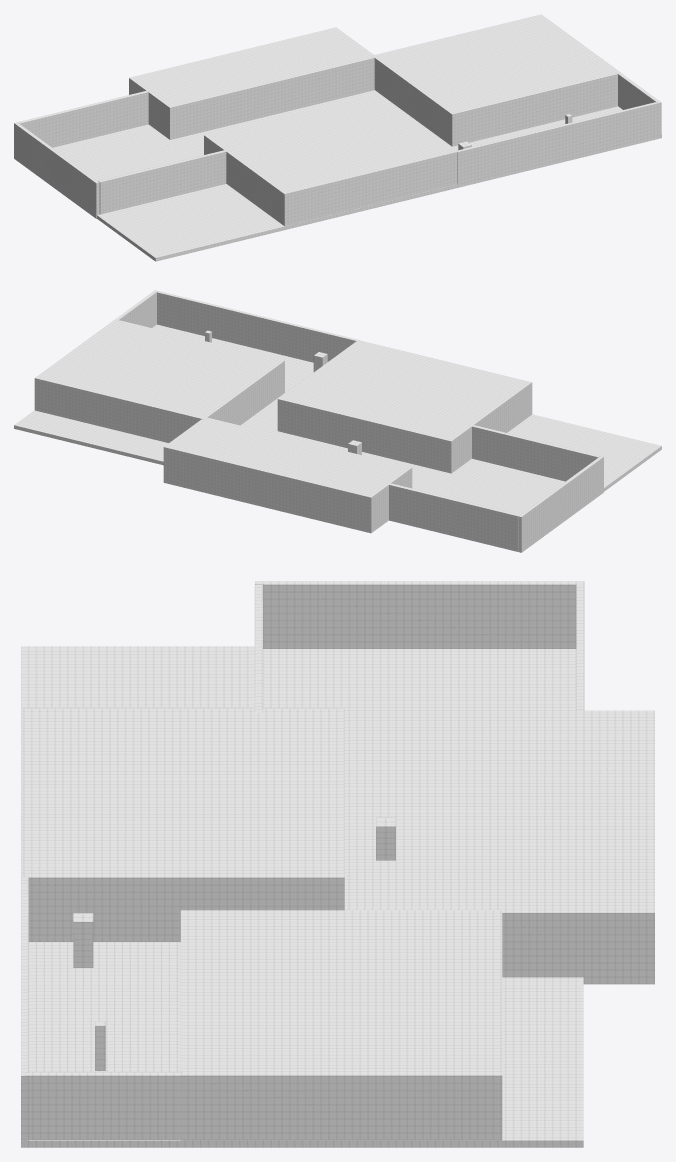
File: StageCol.fbx
The picture shows the model from 3 angles, top to bottom: view 1: azimuth 30°, elevation 25°; view 2: azimuth 150°, elevation 25°; view 3: azimuth 270°, elevation 25°; orthographic projection. The views are drawn at different scales.
Parts seen in each view (by area): view 1: Cube__8_, Cube__5_, Cube__9_, Cube__4_, Cube__3_, Cube__11_, Cube__10_, Cube__12_, Cube__7_; view 2: Cube__8_, Cube__5_, Cube__9_, Cube__4_, Cube__3_, Cube__10_, Cube__11_, Cube__12_, Cube, Cube__7_; view 3: Cube__4_, Cube__5_, Cube__8_, Cube__9_, Cube__12_, Cube, Cube__7_, Cube__3_, Cube__10_, Cube__14_, Cube__11_, Cube__15_.
Boxes of the visible parts, x1,y1,x2,y2 form: Cube__8_: (204,93,457,226); Cube__5_: (372,14,620,146); Cube__9_: (129,27,374,139); Cube__4_: (52,90,661,261); Cube__3_: (456,102,661,187); Cube__11_: (98,150,226,214); Cube__10_: (17,90,148,147); Cube__12_: (14,122,99,218); Cube__7_: (618,73,660,109); Cube__8_: (277,340,532,473); Cube__5_: (34,319,284,442); Cube__9_: (163,417,412,533); Cube__4_: (14,325,661,514); Cube__3_: (154,290,359,362); Cube__10_: (386,482,519,551); Cube__11_: (467,425,599,481); Cube__12_: (518,456,603,552); Cube: (152,324,313,393); Cube__7_: (115,291,157,327); Cube__4_: (21,646,583,1147); Cube__5_: (180,910,502,1140); Cube__8_: (22,708,344,941); Cube__9_: (490,710,654,984); Cube__12_: (255,581,584,648); Cube: (21,942,185,1147); Cube__7_: (25,1072,182,1139); Cube__3_: (21,876,28,1140); Cube__10_: (576,584,584,713); Cube__14_: (73,913,93,967); Cube__11_: (254,585,262,712); Cube__15_: (376,817,395,860).
Bounding box in the file's own units: 14971 × 1009 × 8104.
Materials: 1 (1 with a texture image).
